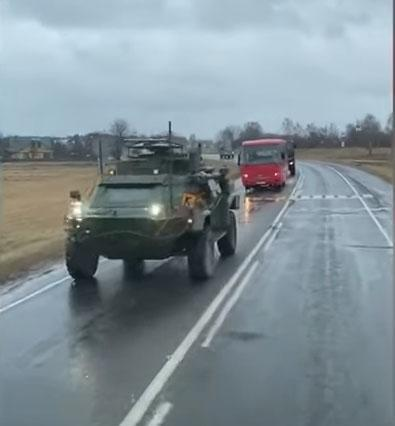tank: (57, 134, 236, 294)
